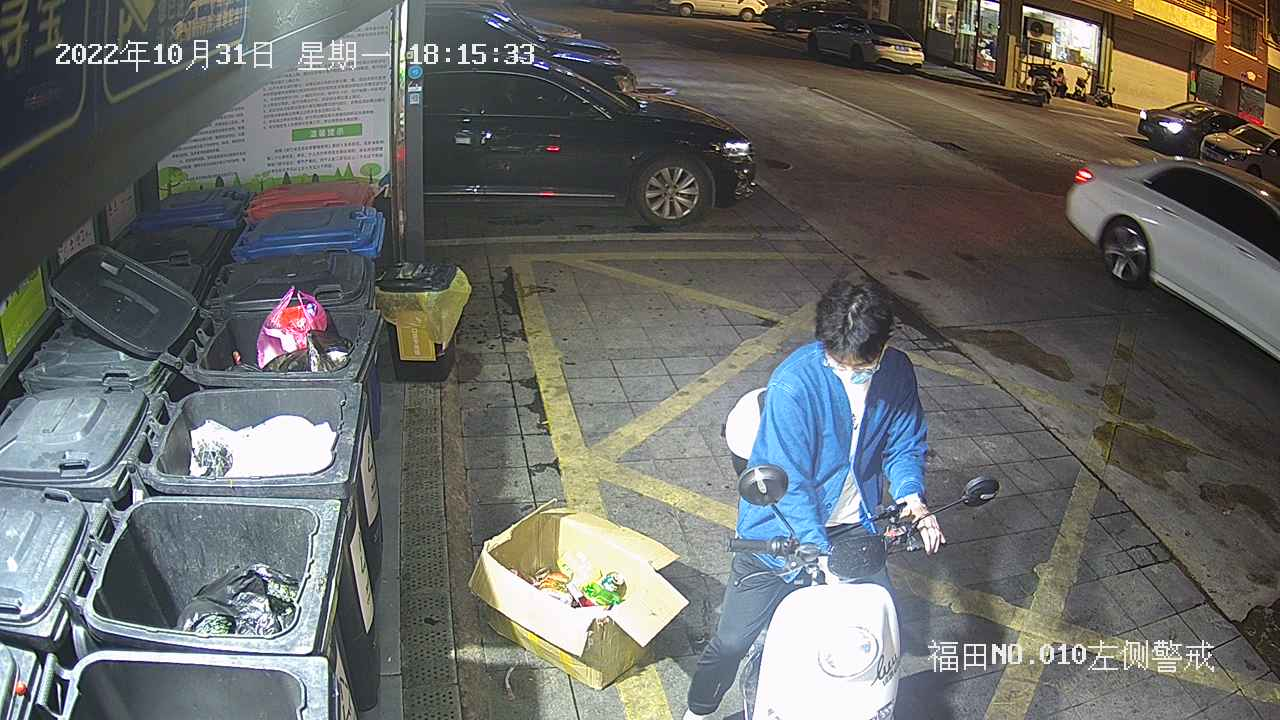worker: (679, 277, 947, 720)
zhizhipin: (466, 496, 692, 694)
